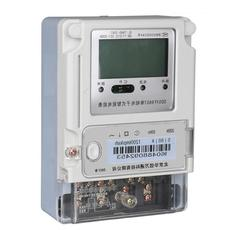digital: (59, 17, 193, 181)
